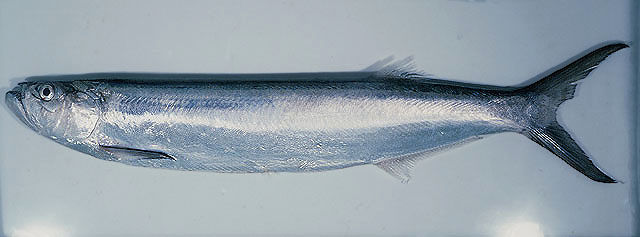fish: (7, 43, 630, 183)
